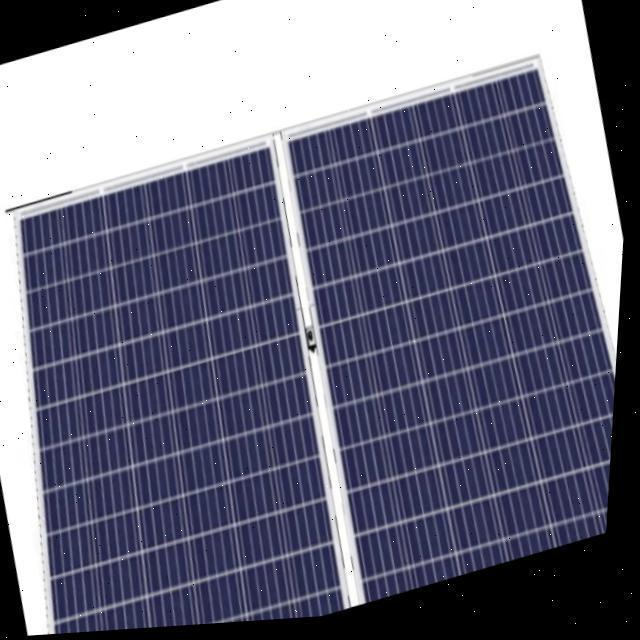Normal Solar Panel: (288, 59, 623, 609), (0, 143, 358, 636)
